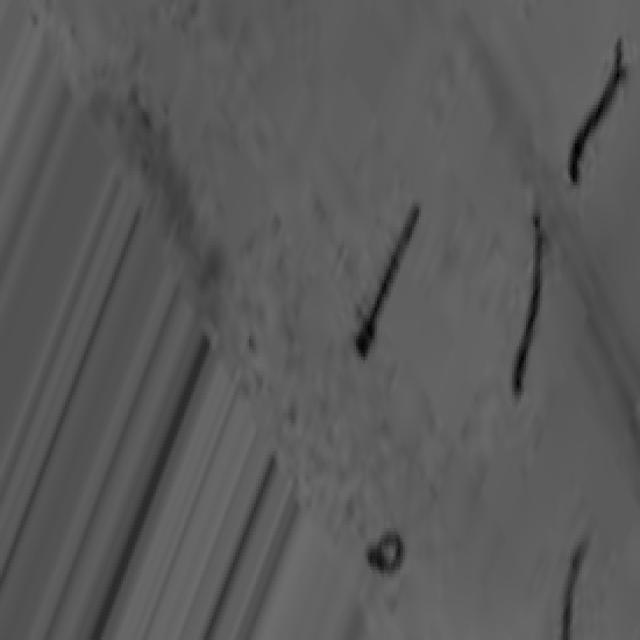larvas: (355, 204, 421, 356), (565, 48, 627, 180), (508, 210, 548, 390), (557, 533, 591, 640), (364, 534, 404, 573)
